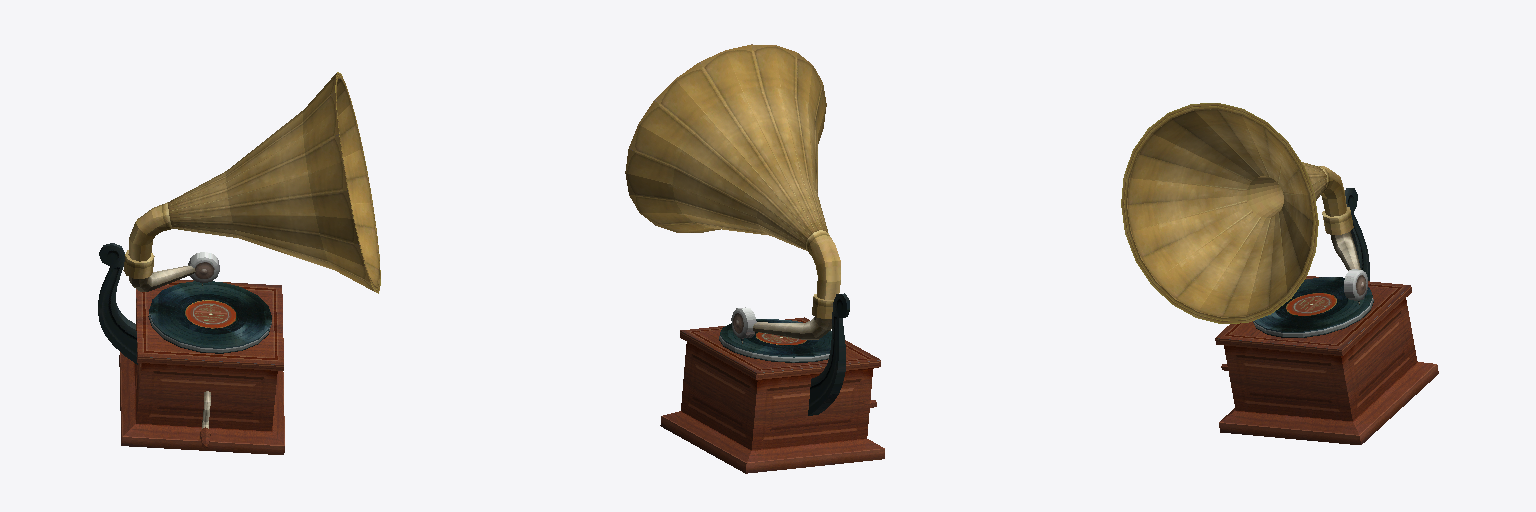
The picture shows the model from 3 angles: view 1: azimuth 30°, elevation 25°; view 2: azimuth 150°, elevation 25°; view 3: azimuth 270°, elevation 25°; orthographic projection.
Bounding box in the file's own units: 66.39 × 89.48 × 72.77.
1 materials, 1 textured.